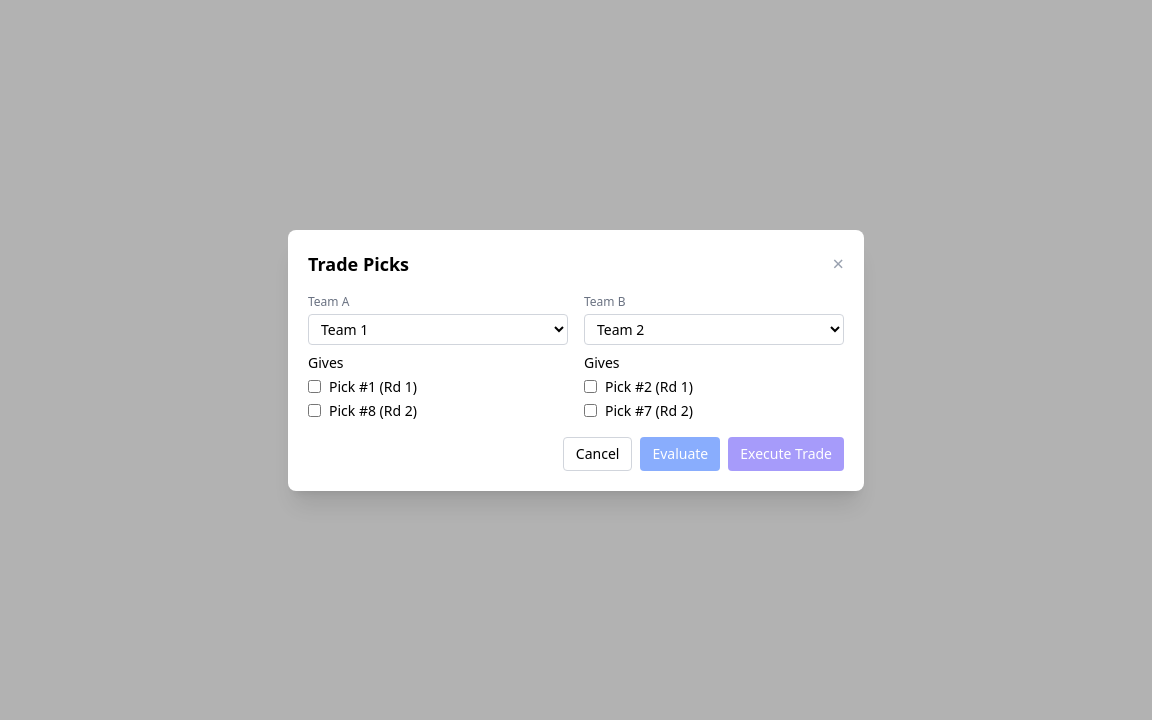
Test case: TradeDialog › changing team B clears its selections
Select a team B pick
Click the checkbox labelled "Pick #2 (Rd 1)" at (590, 386), box [584,380,597,393]
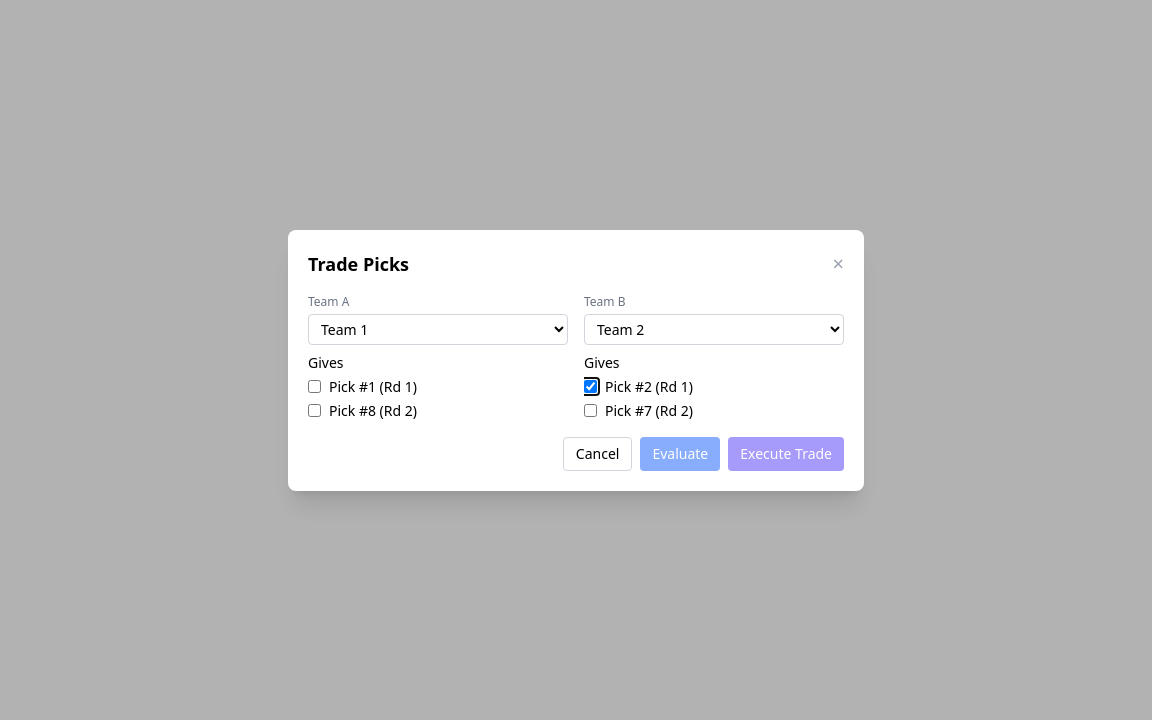
Result: the checkbox labelled "Pick #2 (Rd 1)" is checked at [584,380,597,393]
Change team B to team 3
Select "Team 3" in the dropdown below "Team B" at (714, 329), box [584,314,844,344]
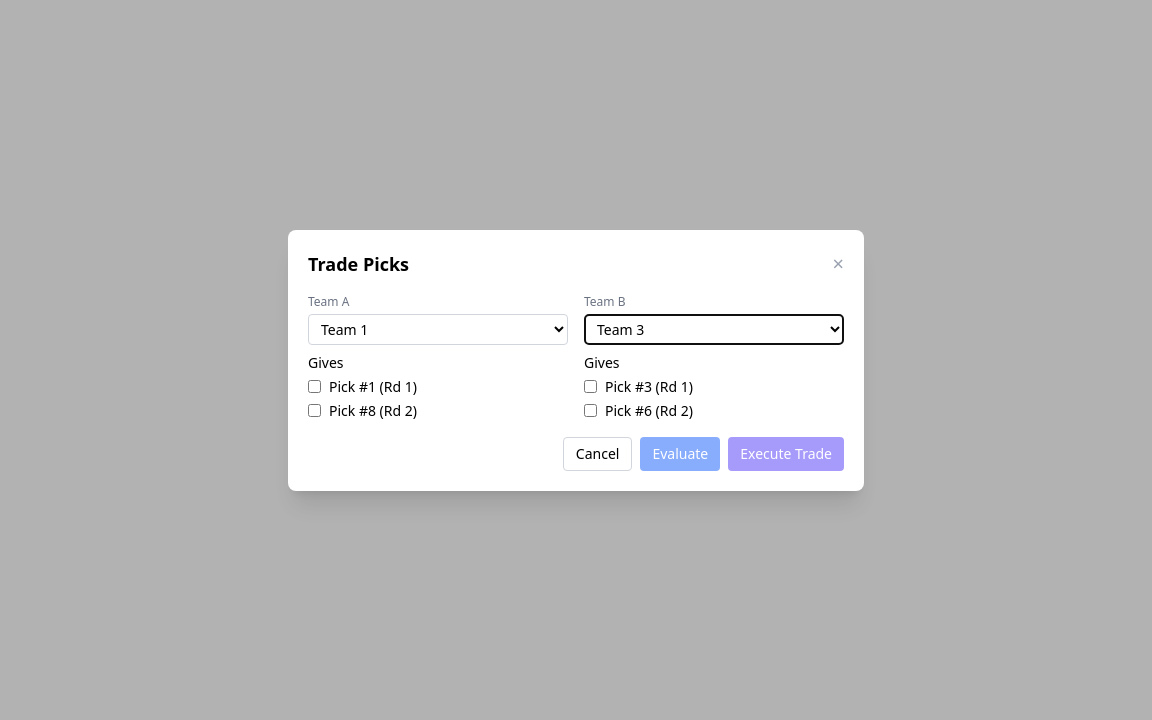
Expected: the checkbox labelled "Pick #6 (Rd 2)" is not checked, [584,404,597,417]
Result: the checkbox labelled "Pick #3 (Rd 1)" is not checked at [584,380,597,393]
